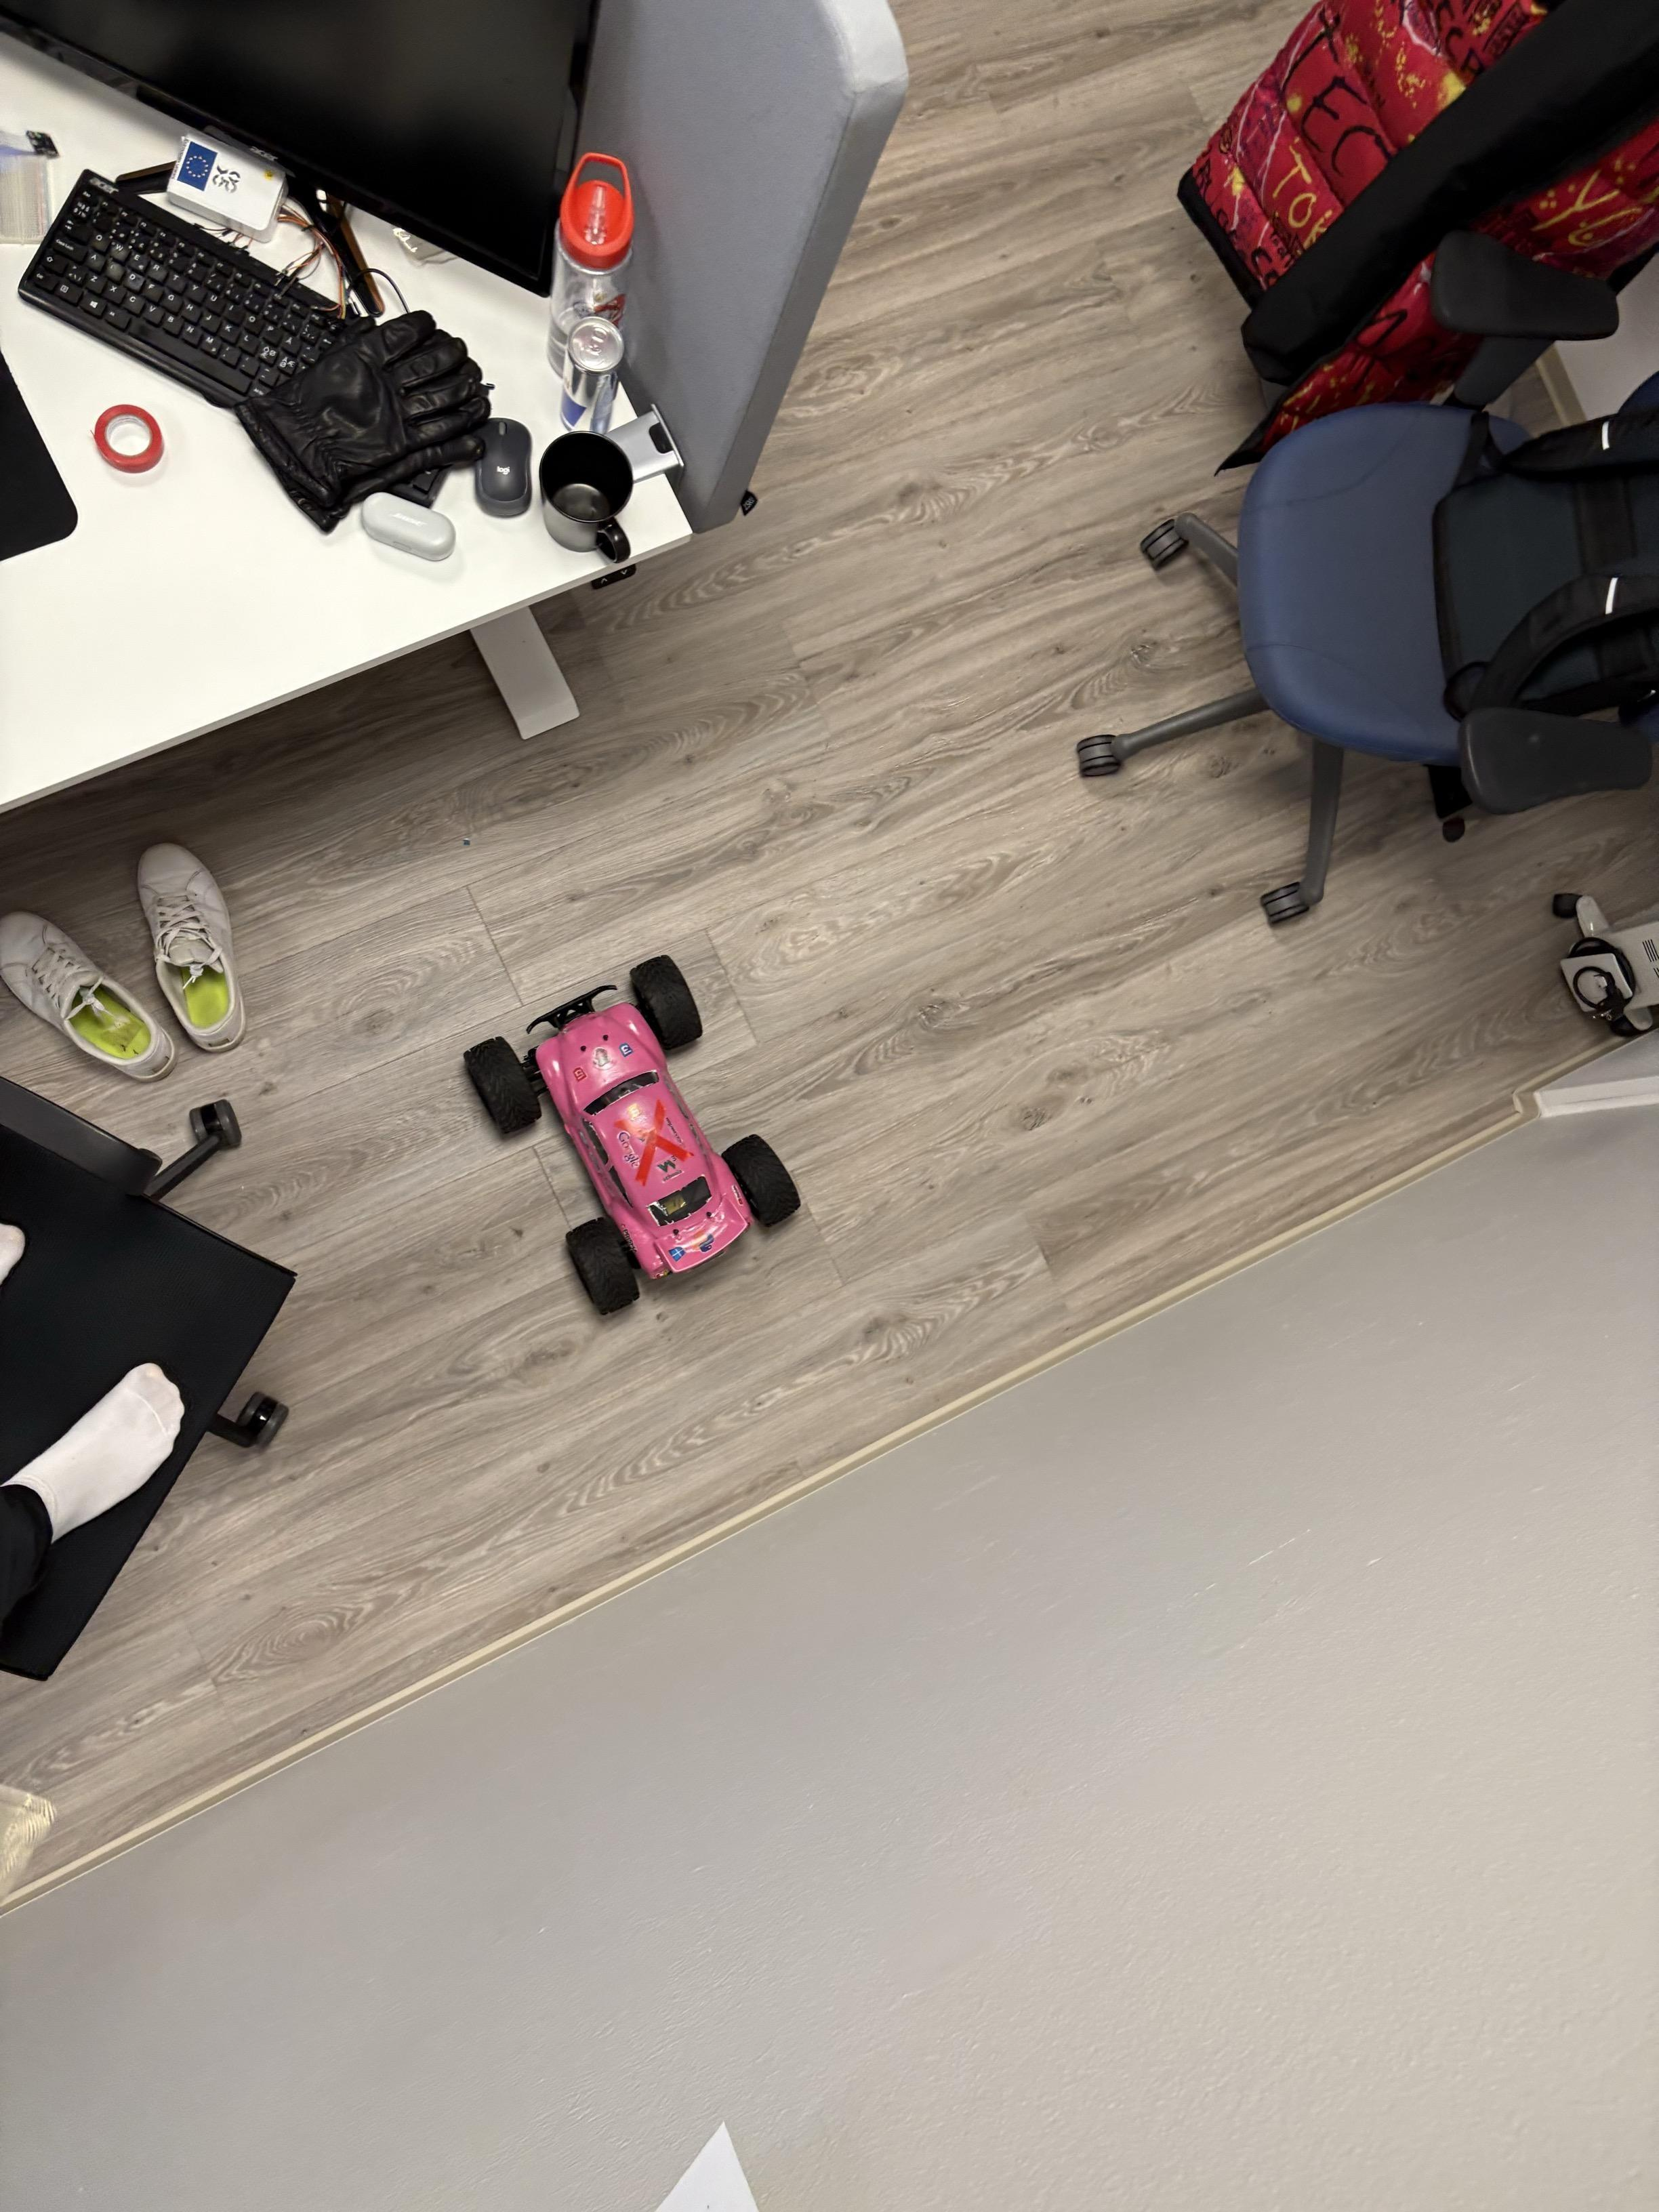Car: (417, 908, 844, 1366)
